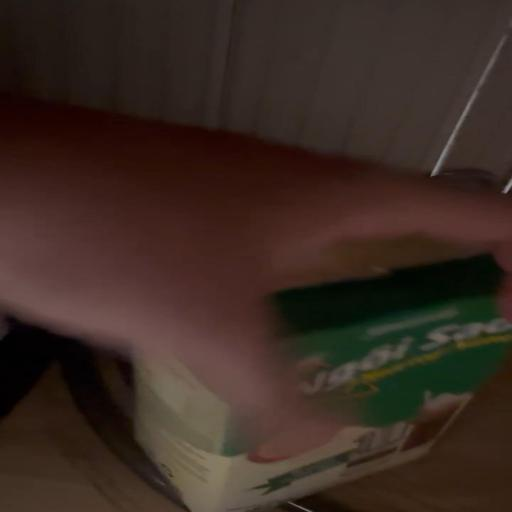ly_giay: (135, 256, 511, 512)
